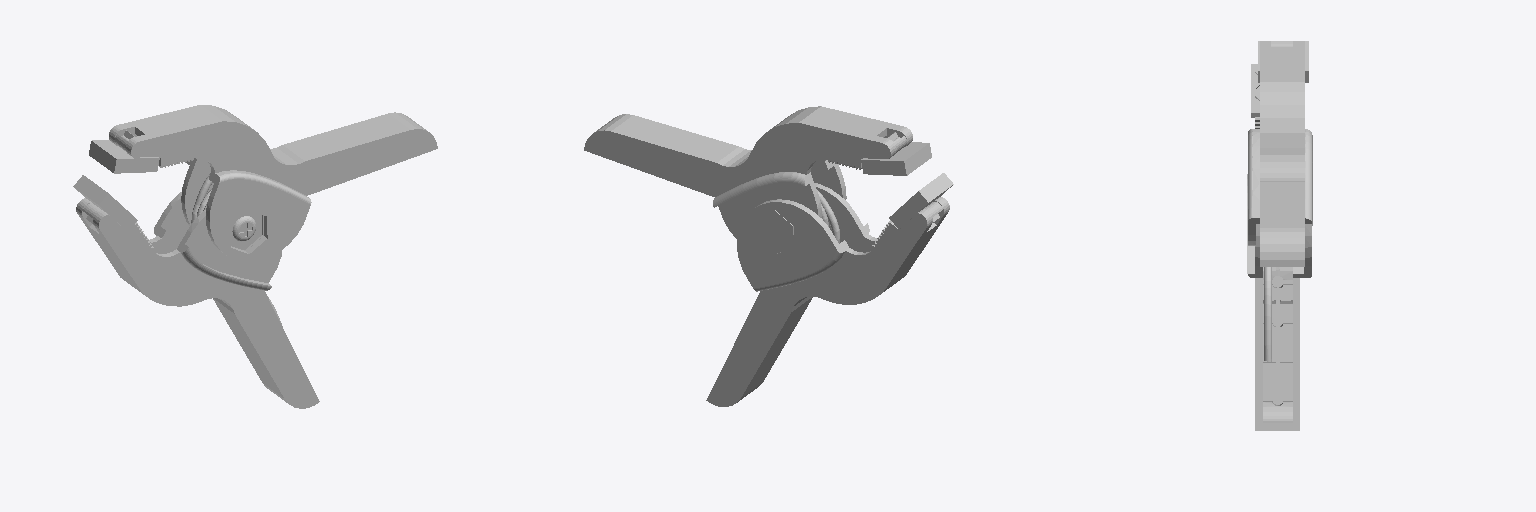
Rendered from Canden - Small_Clamp v3.obj.
3 views of the same model, side by side, from view 1: azimuth 30°, elevation 25°; view 2: azimuth 150°, elevation 25°; view 3: azimuth 270°, elevation 25° (orthographic).
Visible parts, largest first — view 1: Body2, Body9, Body6, Body8; view 2: Body9, Body2, Body6, Body8, Body13; view 3: Body2, Body9, Body12.
Part boxes in pixels (left/top/right/bottom): Body2: left=109, top=105, right=437, bottom=261; Body9: left=76, top=192, right=319, bottom=408; Body6: left=89, top=130, right=159, bottom=173; Body8: left=73, top=175, right=137, bottom=231; Body9: left=706, top=183, right=949, bottom=406; Body2: left=584, top=106, right=912, bottom=238; Body6: left=861, top=132, right=931, bottom=175; Body8: left=889, top=173, right=953, bottom=228; Body13: left=756, top=210, right=793, bottom=253; Body2: left=1248, top=41, right=1312, bottom=266; Body9: left=1247, top=117, right=1311, bottom=430; Body12: left=1264, top=267, right=1271, bottom=361.
Bounding box in the file's own units: 10.12 × 8.6 × 1.66.